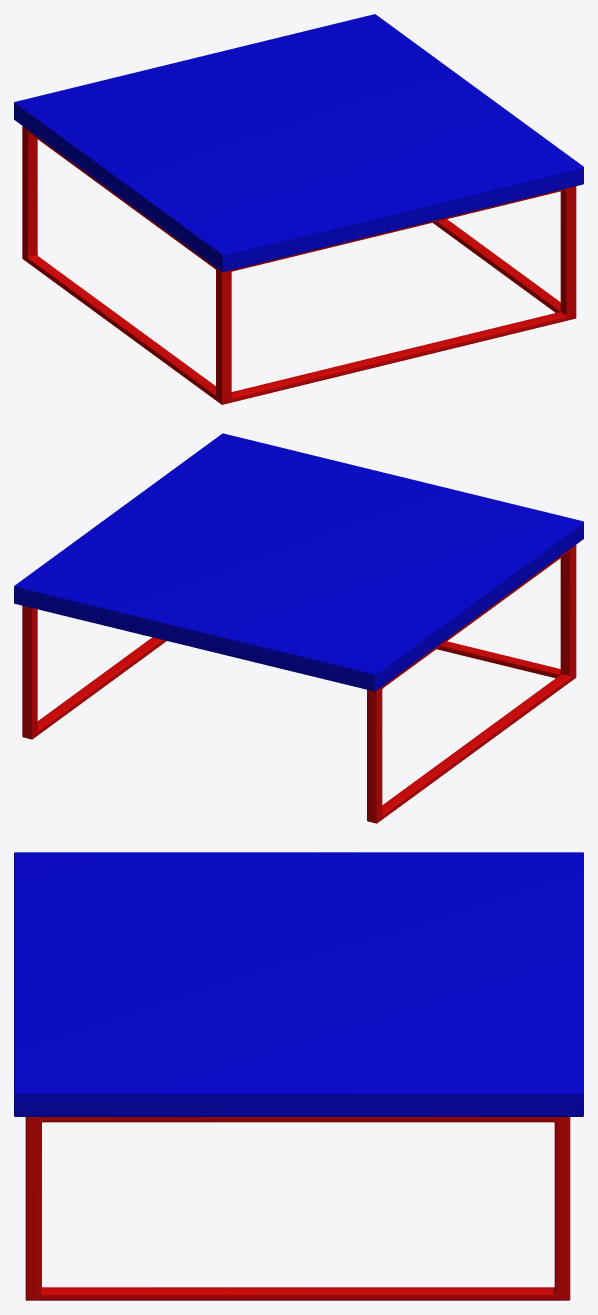
File: mv_CouchTableC.fbx
The picture shows the model from 3 angles, top to bottom: view 1: azimuth 30°, elevation 25°; view 2: azimuth 150°, elevation 25°; view 3: azimuth 270°, elevation 25°; orthographic projection. The views are drawn at different scales.
Visible parts, largest first — view 1: CouchTableC; view 2: CouchTableC; view 3: CouchTableC.
Boxes of the visible parts, <box> form: CouchTableC: <box>14,14,583,404</box>; CouchTableC: <box>14,433,583,823</box>; CouchTableC: <box>14,852,583,1300</box>.
Bounding box in the file's own units: 105 × 42.85 × 105.
